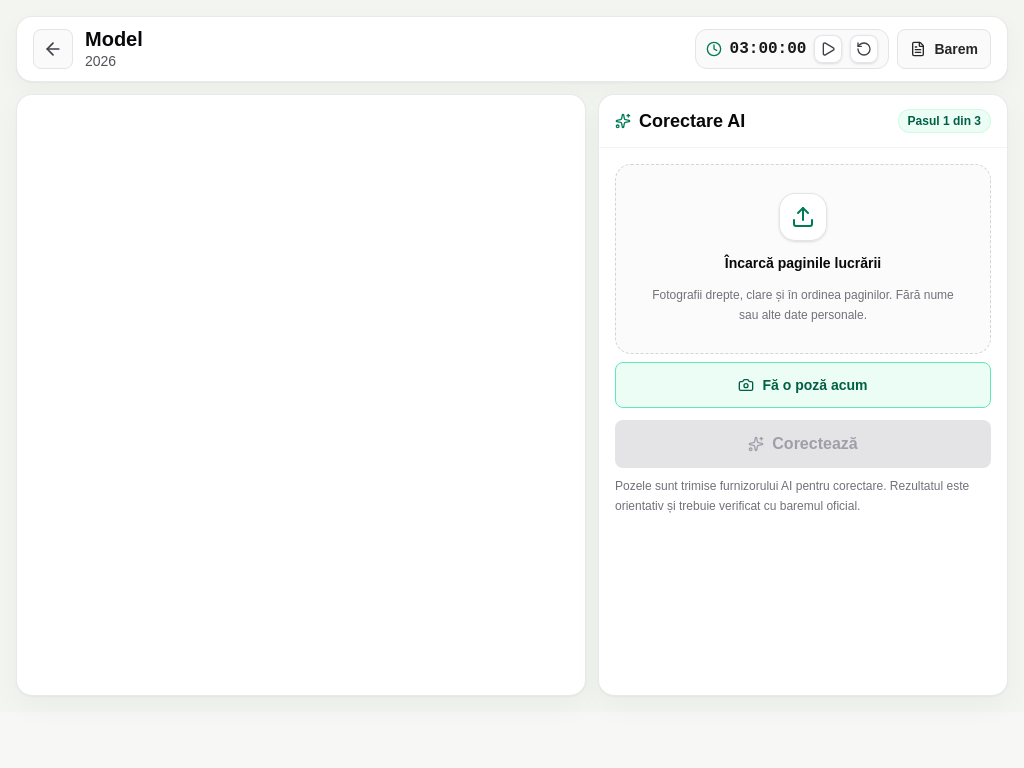
ExamWorkspace camera capture › opens a camera dialog and surfaces a permission error
Step 1. Click the button "Fă o poză acum" → (803, 385), box [615,362,991,408]
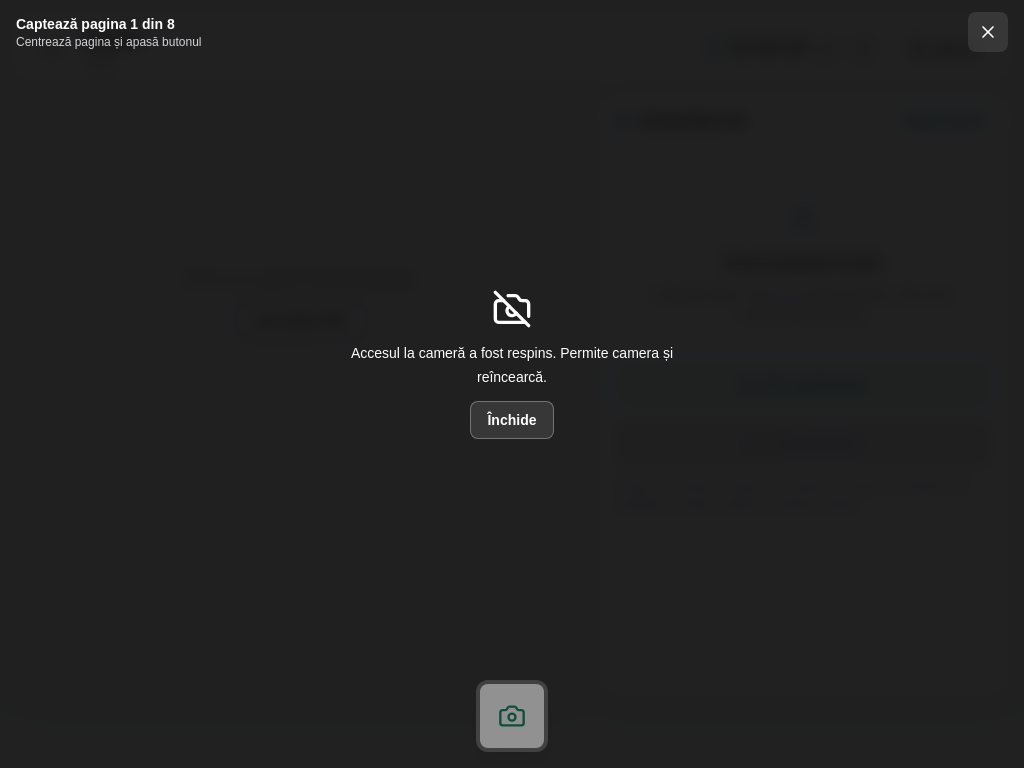
Check: the dialog named "Captează paginile cu camera" is shown
Check: the text "Accesul la cameră a fost respins" is shown, box [351,345,673,385]
